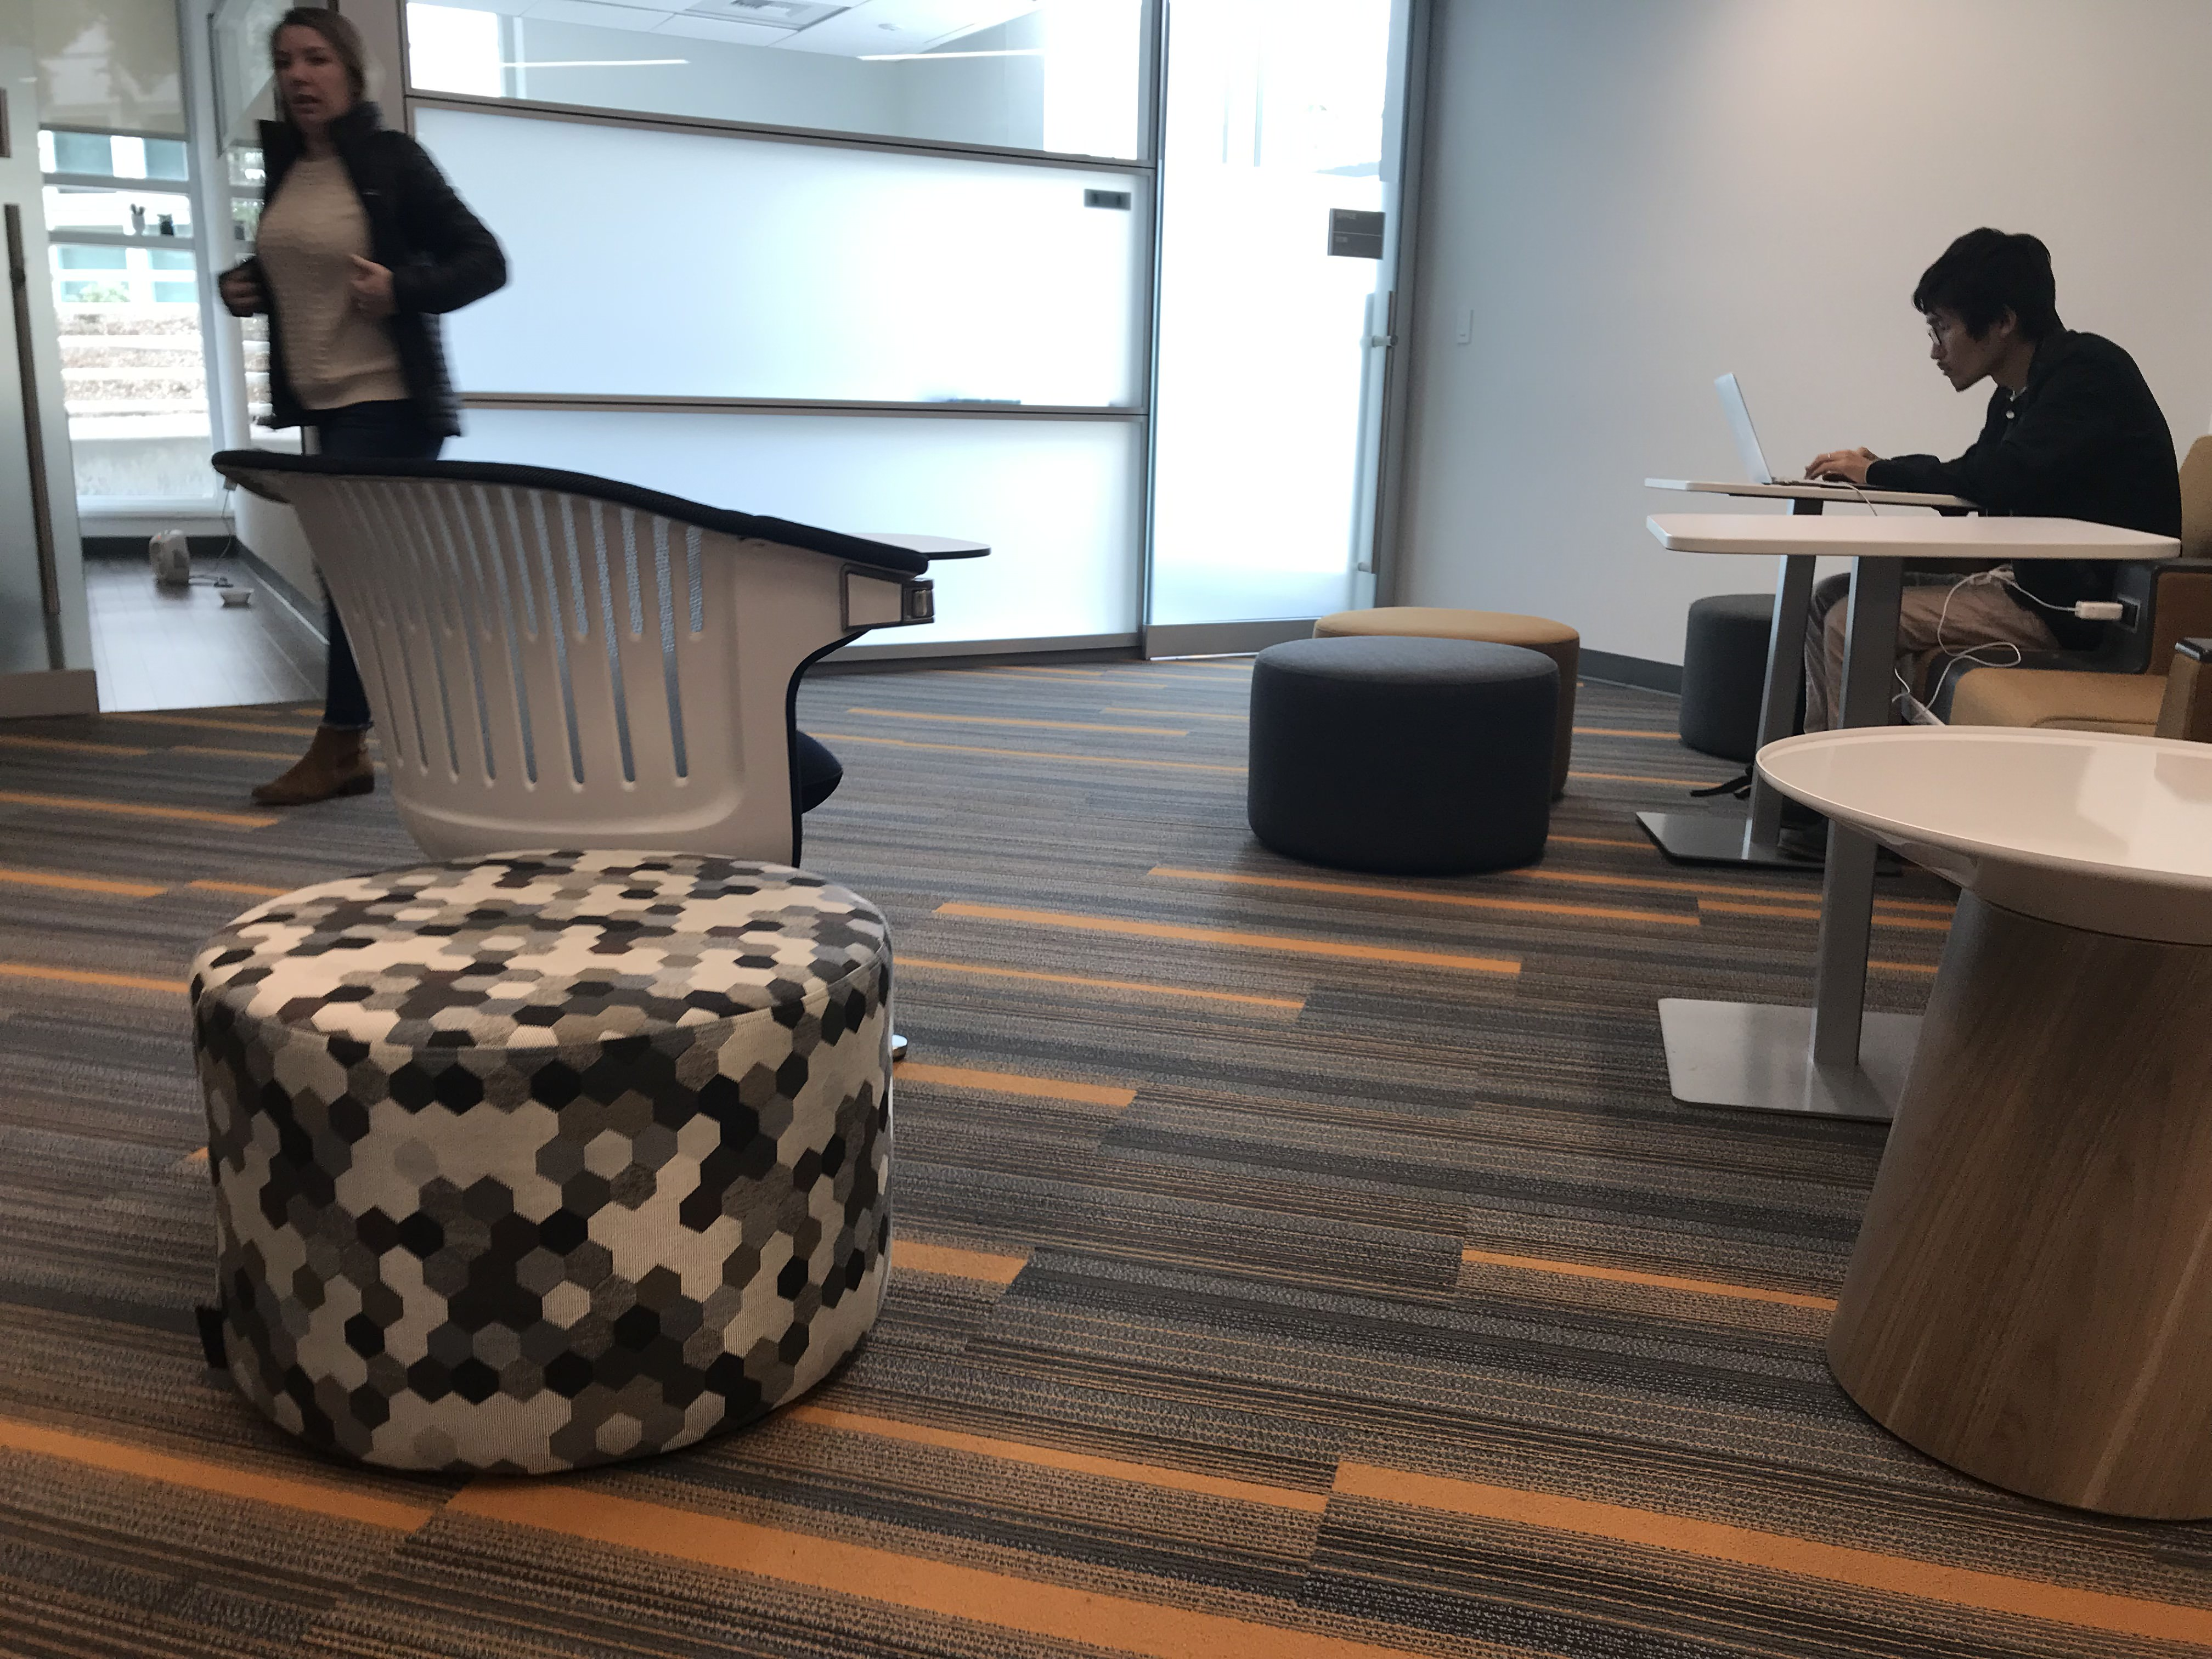Obstacle: (195, 854, 897, 1476), (1768, 737, 2207, 1539), (1634, 235, 2207, 734), (216, 457, 902, 843), (216, 10, 510, 497), (1251, 599, 1587, 889)
